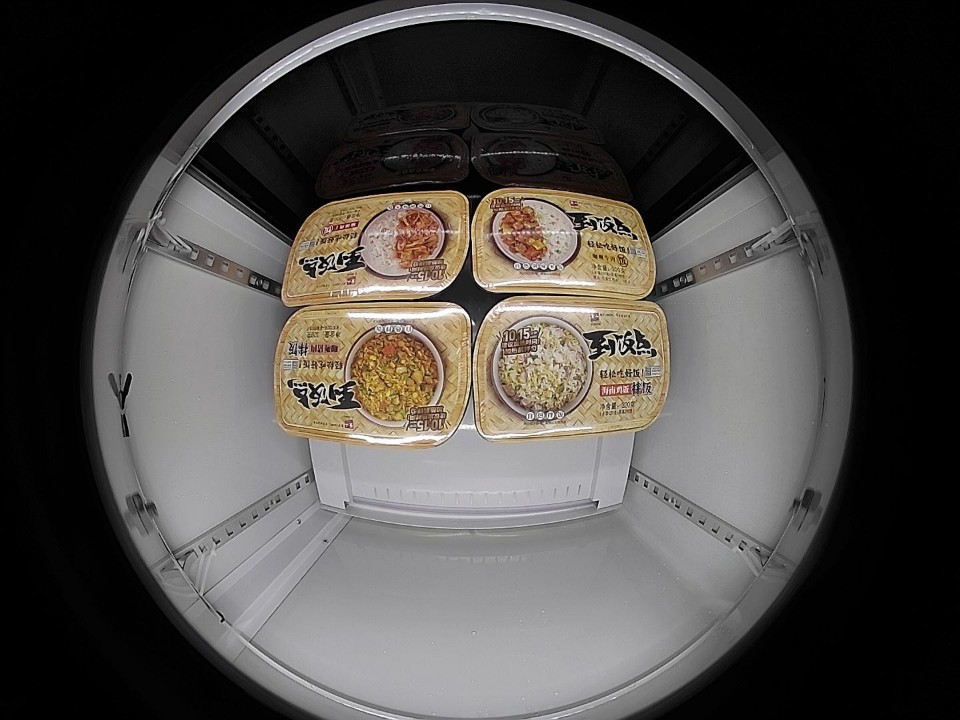daofandian1: (470, 296, 672, 441)
daofandian2: (469, 186, 657, 299)
daofandian3: (272, 301, 473, 449)
daofandian4: (280, 188, 472, 305)
